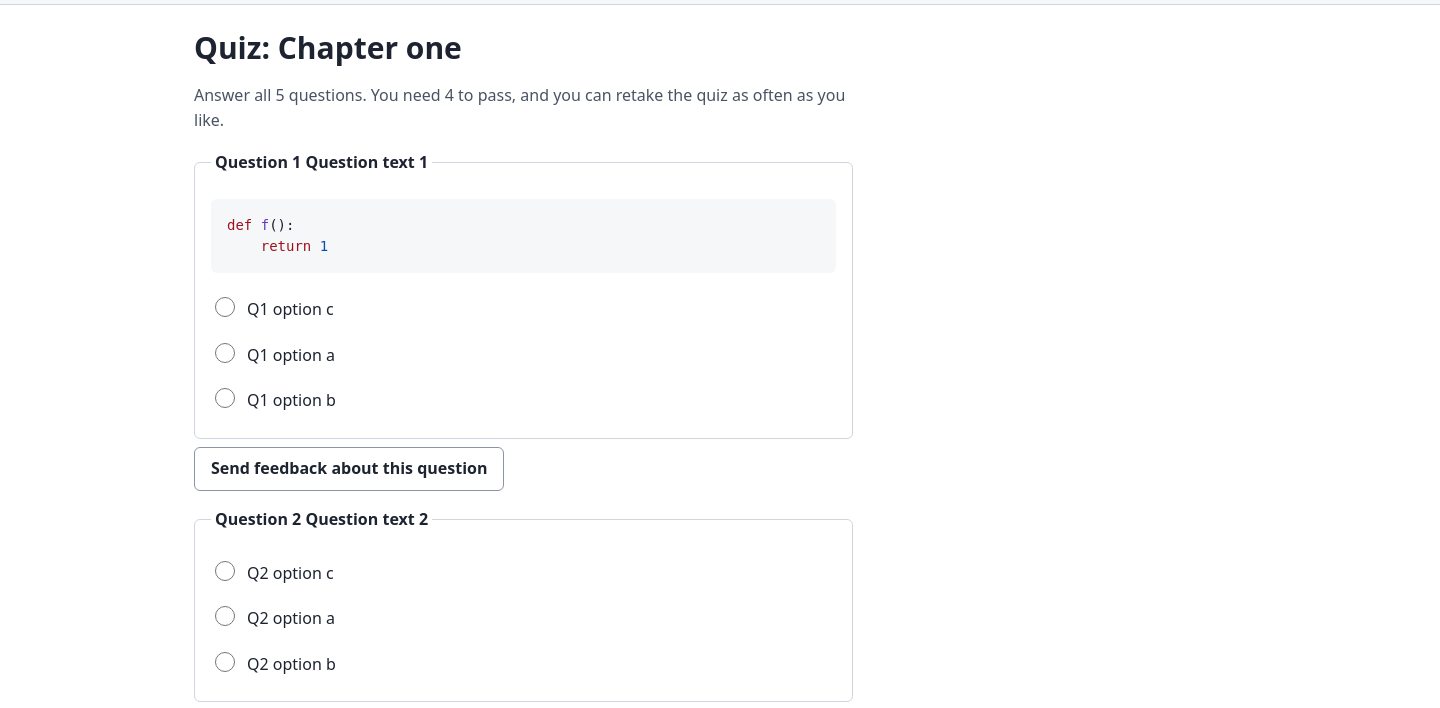
Test: a failed attempt › replaces the form with a read-only review, shows the score and need, and focuses the heading
The width and height of the screenshot is (1440, 708).
Click the radio button labelled "Q1 option a": click(225, 353) left=215, top=343, right=235, bottom=363
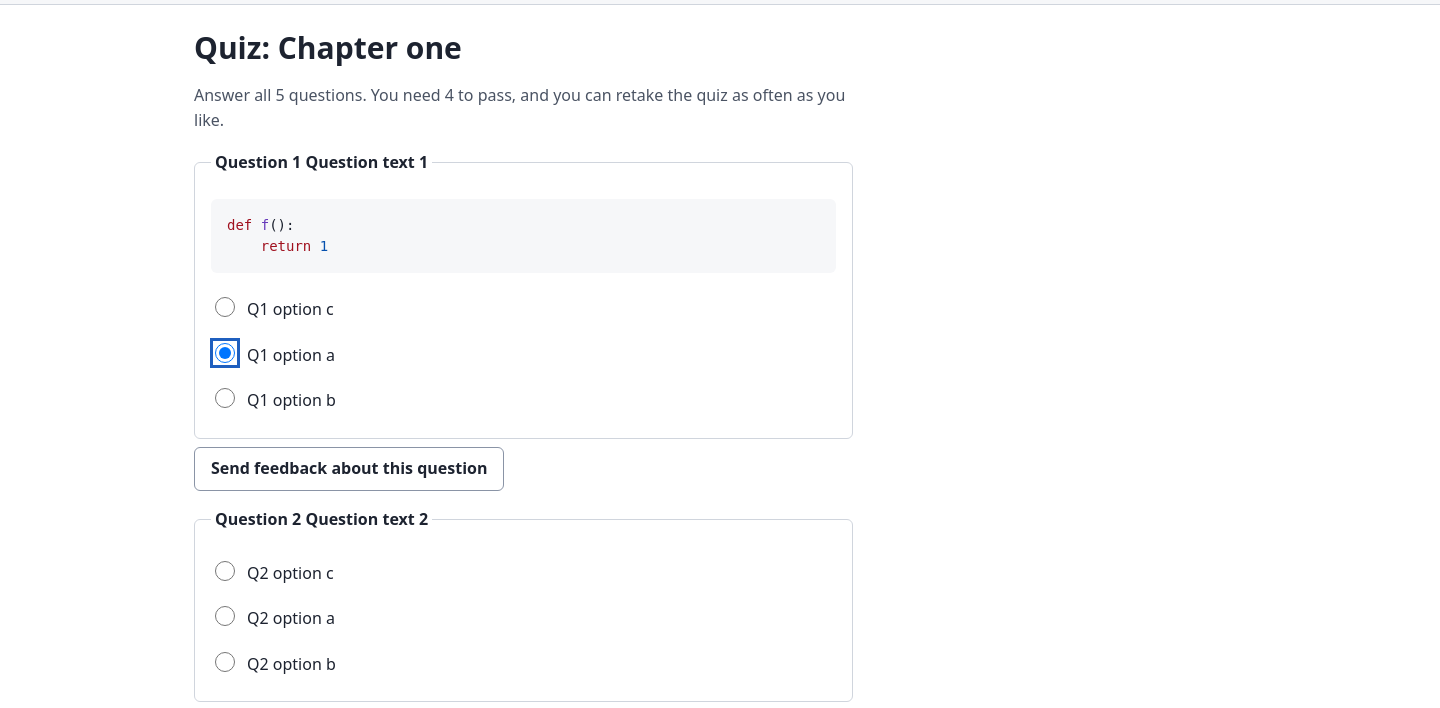
Click the radio button labelled "Q2 option a": click(225, 616) left=215, top=606, right=235, bottom=626
(page scrolled)
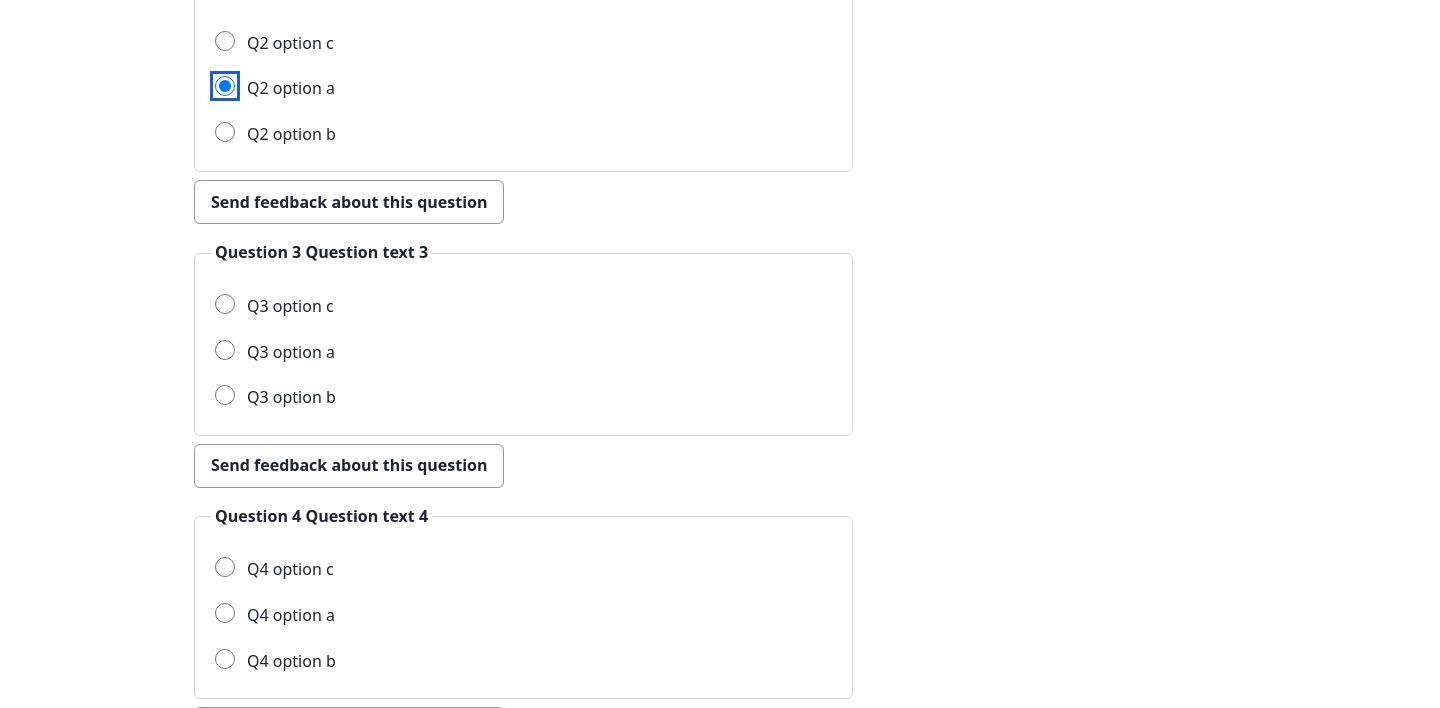
Click the radio button labelled "Q3 option a": click(225, 350) left=215, top=340, right=235, bottom=360
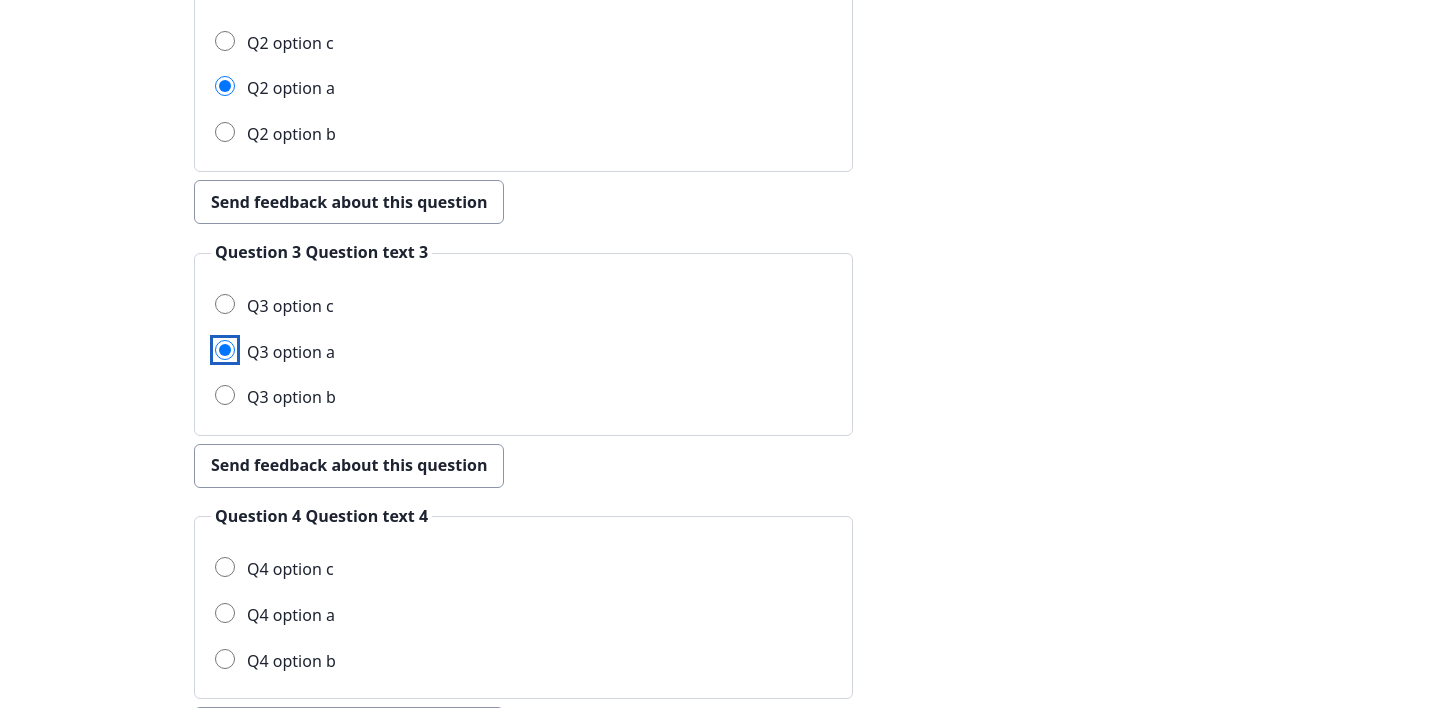
Click the radio button labelled "Q4 option b": click(225, 659) left=215, top=649, right=235, bottom=669
(page scrolled)
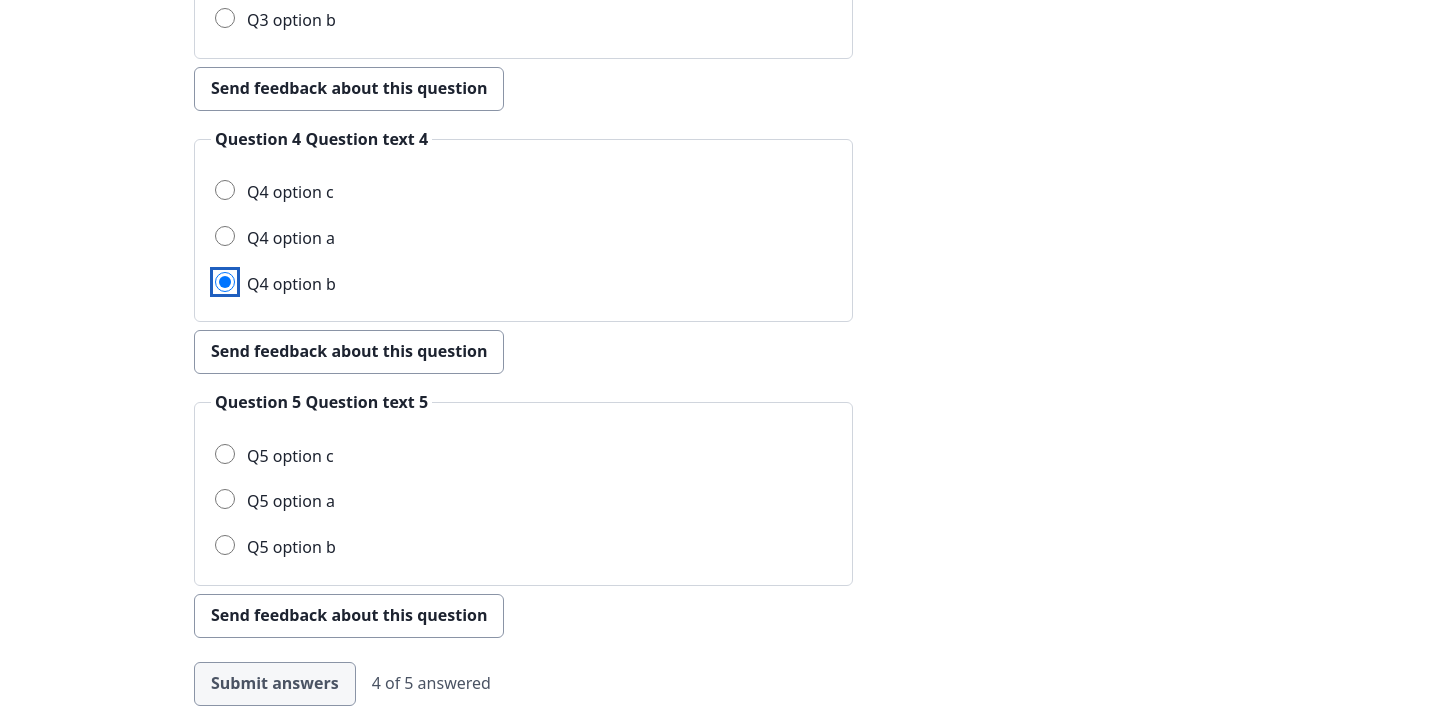
Click the radio button labelled "Q5 option b": click(225, 545) left=215, top=535, right=235, bottom=555
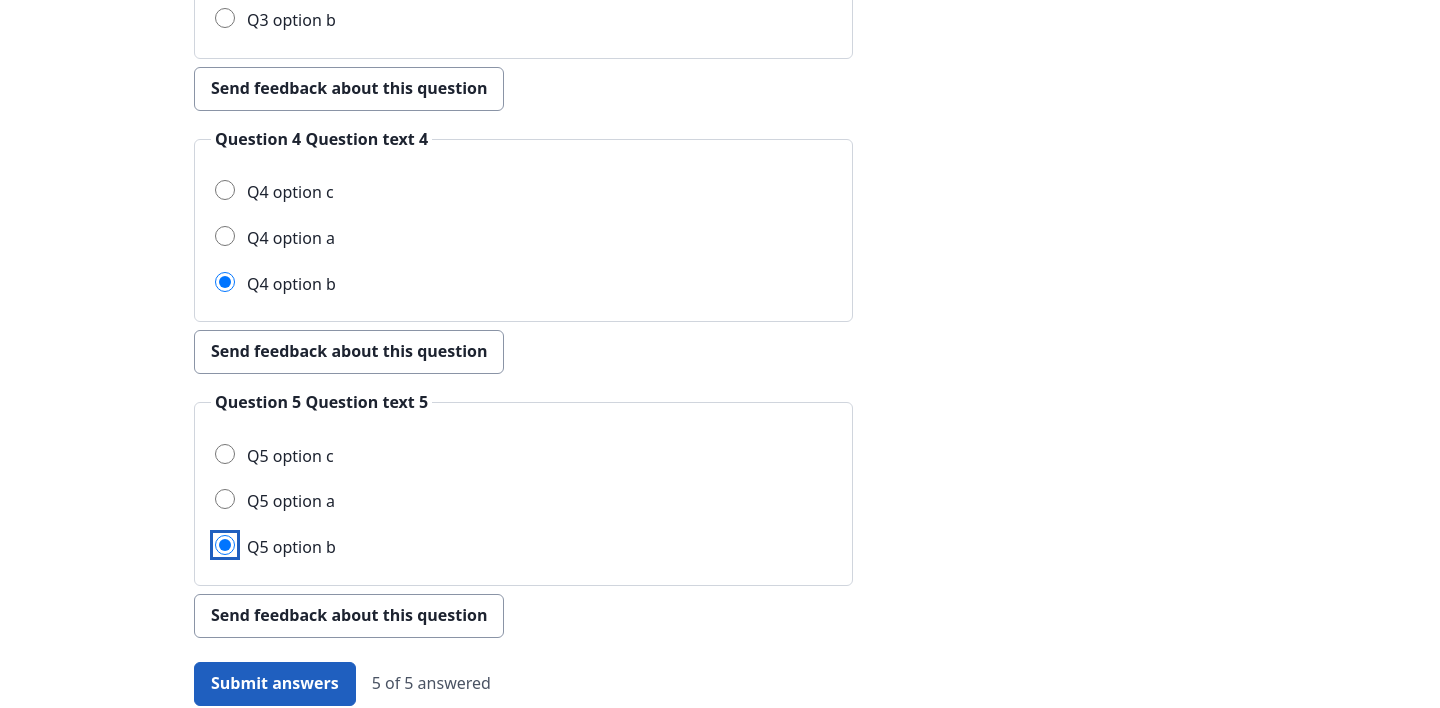
Click the button "Submit answers": click(275, 684) left=194, top=662, right=356, bottom=706
(page scrolled)
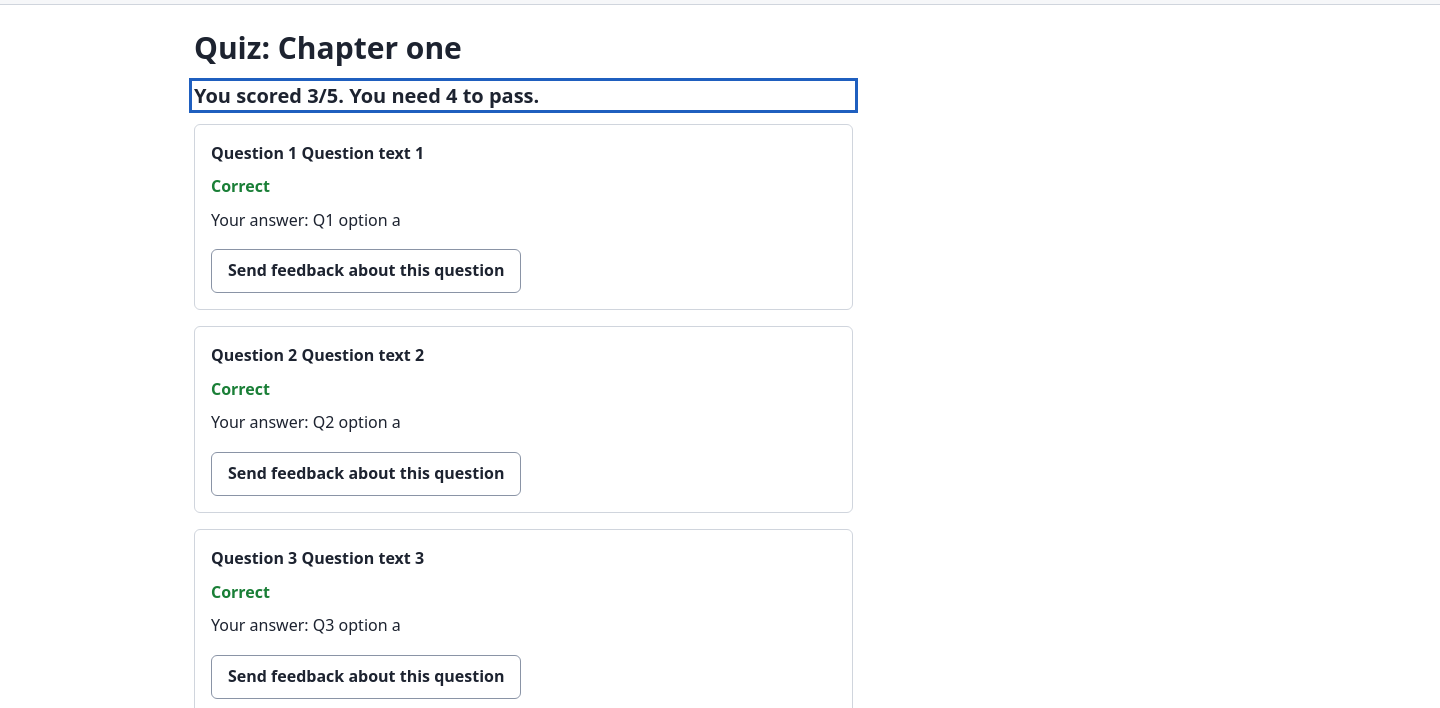
Expected: the heading "You scored 3/5. You need 4 to pass." is shown, left=194, top=82, right=539, bottom=108
Expected: no radio buttons are shown
Expected: the button "Submit answers" is gone
